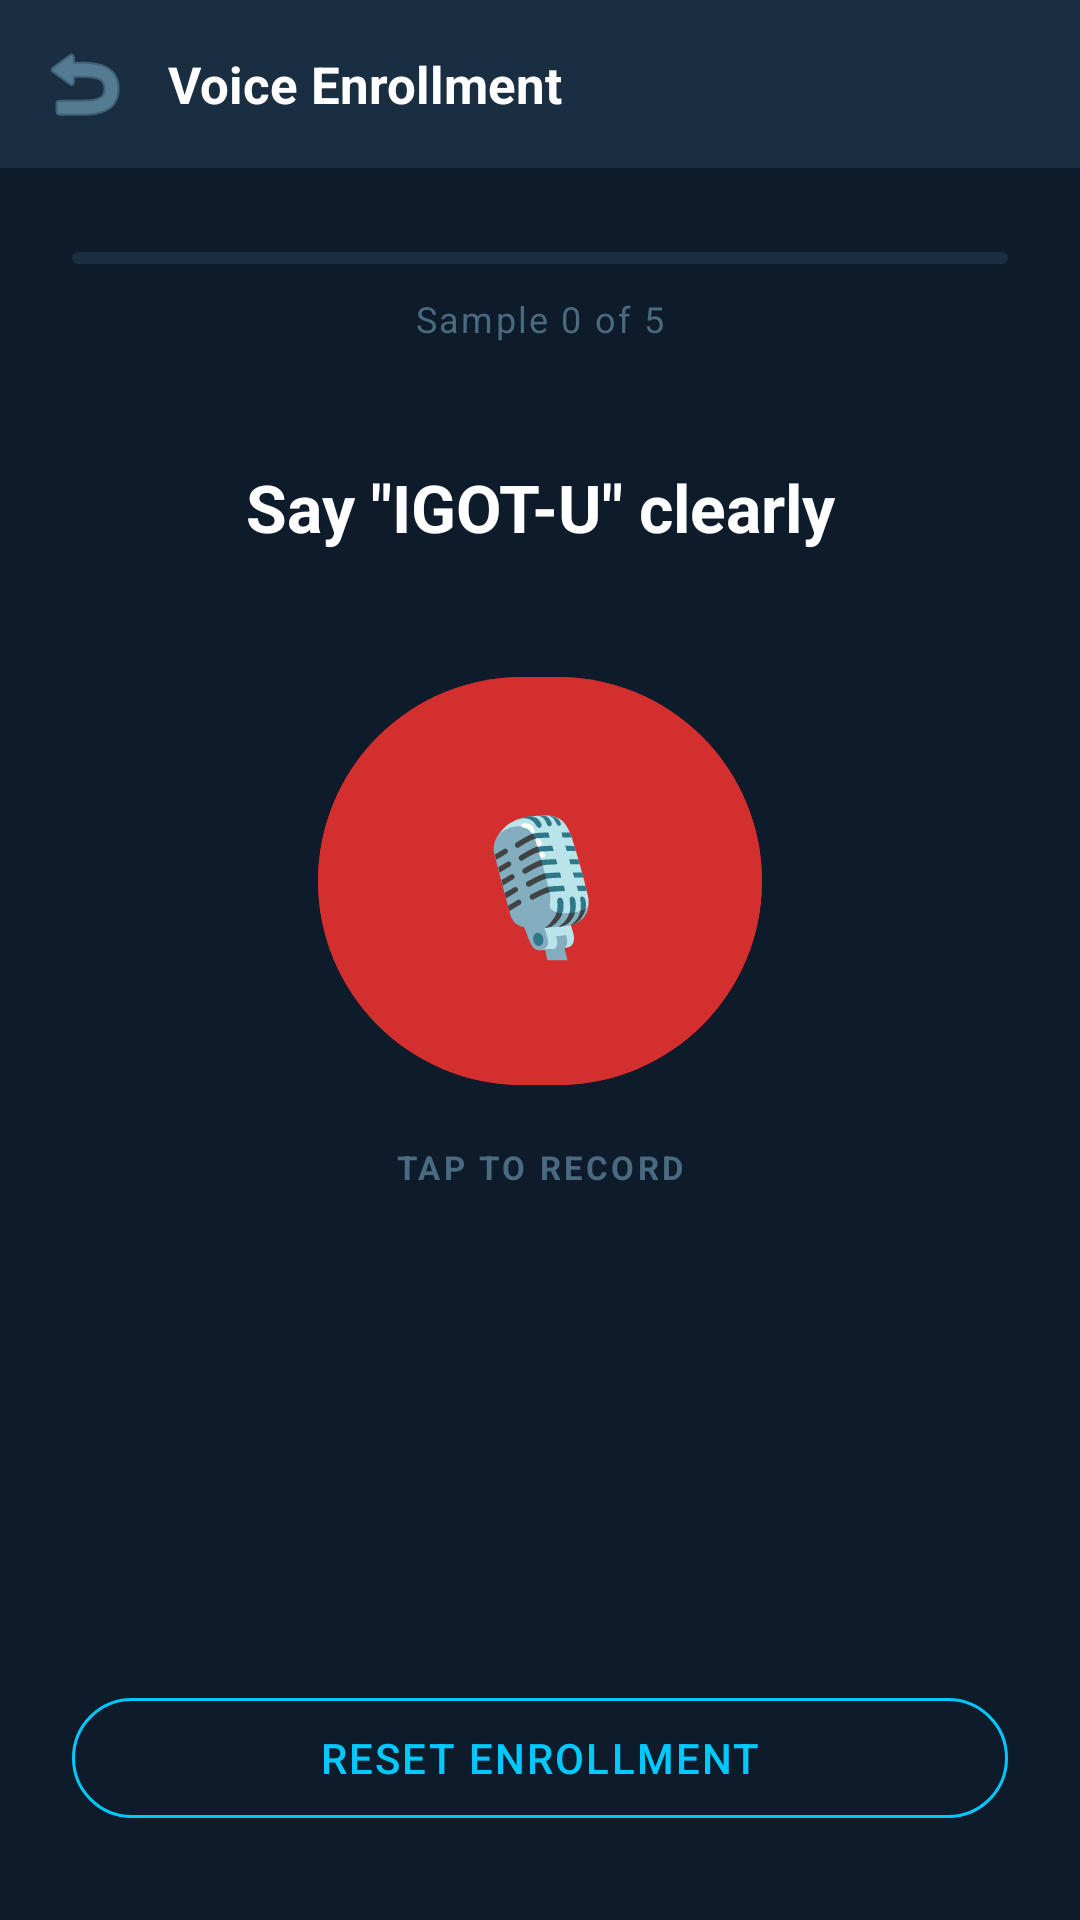

Where icons sit on this 1080w x 1920h app screen, as (x1, y1, x2, y2):
revert: (51, 54, 120, 116)
